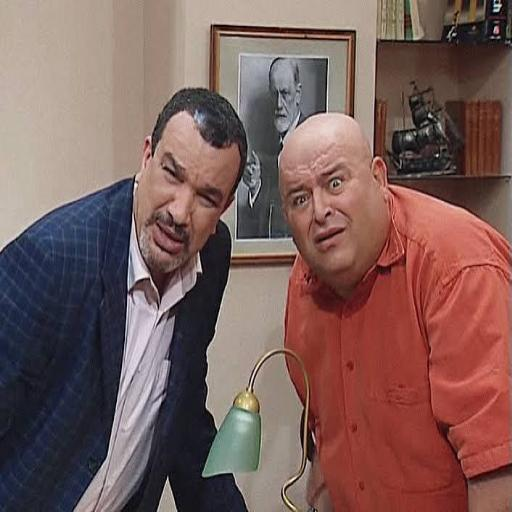sboui: (279, 114, 389, 297)
slimane: (133, 88, 246, 292)
